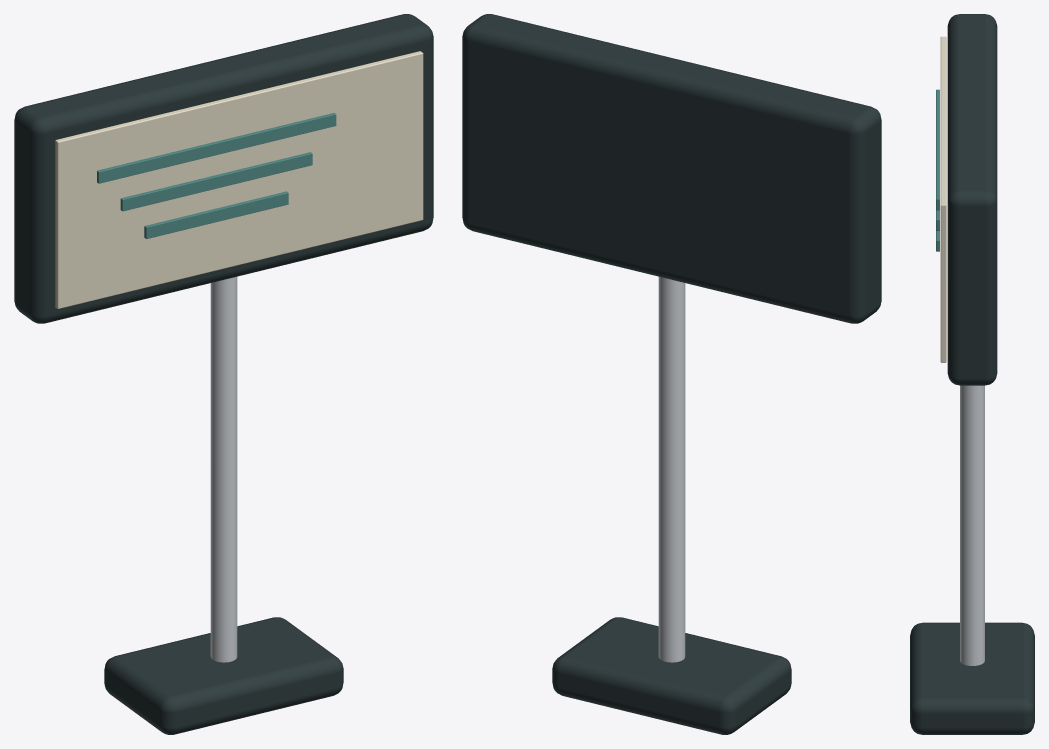
Rendered from label.glb.
3 renders of one model, left to right at view 1: azimuth 30°, elevation 25°; view 2: azimuth 150°, elevation 25°; view 3: azimuth 270°, elevation 25°, orthographic. The views are drawn at different scales.
Visible parts, largest first — view 1: label; view 2: label; view 3: label.
Boxes of the visible parts, x1,y1,x2,y2 form: label: [14, 14, 433, 734]; label: [462, 14, 881, 734]; label: [910, 14, 1034, 734].
Size of the model in its own units: 0.88 by 1.32 by 0.25.
